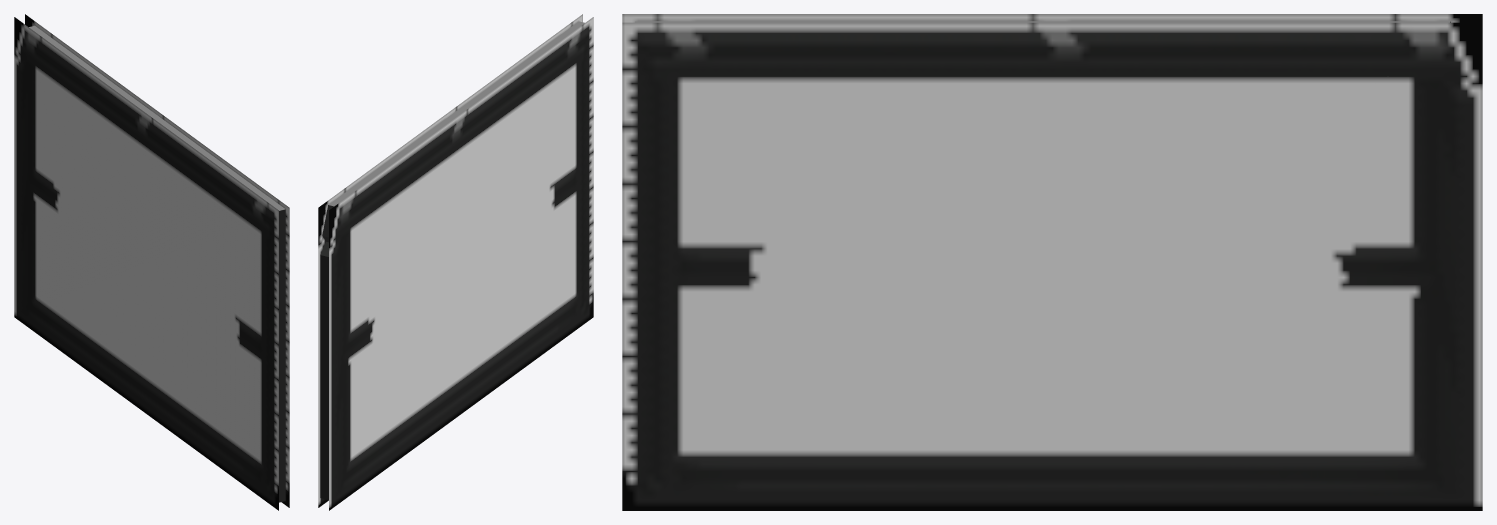
Rendered from pz_native_fixtures_windows_metal_96_frame.obj.
3 views of the same model, side by side, from view 1: azimuth 30°, elevation 25°; view 2: azimuth 150°, elevation 25°; view 3: azimuth 270°, elevation 25° (orthographic). The views are drawn at different scales.
Parts seen in each view (by area): view 1: pz_native_fixtures_windows_metal_96_frame; view 2: pz_native_fixtures_windows_metal_96_frame; view 3: pz_native_fixtures_windows_metal_96_frame.
Boxes of the visible parts, bbox=[...] form: pz_native_fixtures_windows_metal_96_frame: bbox=[14, 14, 289, 510]; pz_native_fixtures_windows_metal_96_frame: bbox=[318, 14, 593, 510]; pz_native_fixtures_windows_metal_96_frame: bbox=[622, 14, 1482, 510].
Bounding box in the file's own units: 0.04 × 1.06 × 1.7.
Materials: 1 (1 with a texture image).
